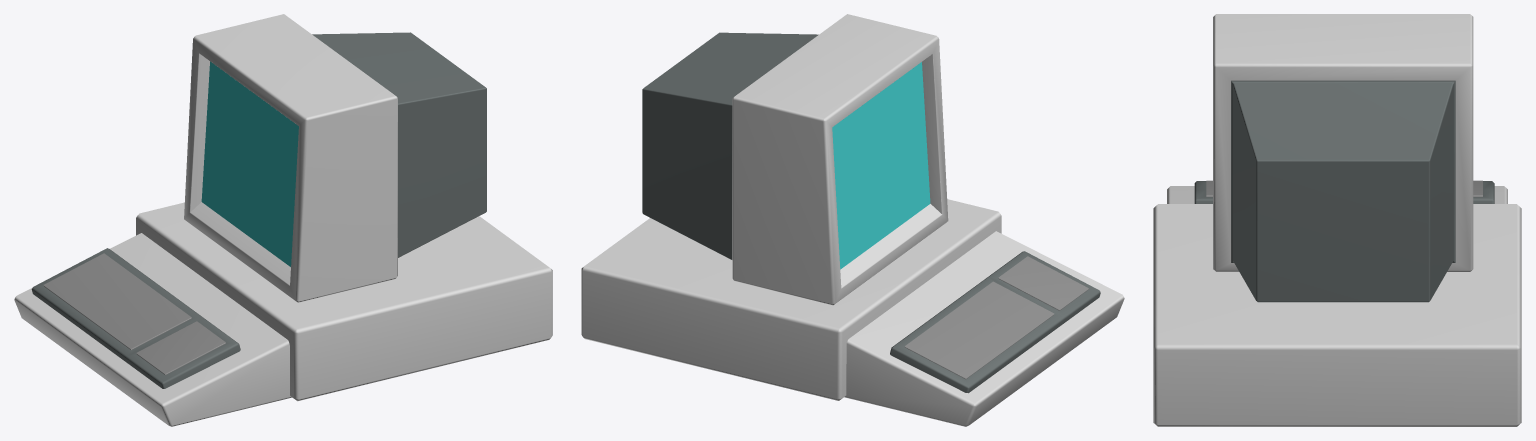
The model's file is Old_PC1.fbx.
3 views of the same model, side by side, from view 1: azimuth 30°, elevation 25°; view 2: azimuth 150°, elevation 25°; view 3: azimuth 270°, elevation 25° (orthographic). The views are drawn at different scales.
Visible parts, largest first — view 1: Old_PC1; view 2: Old_PC1; view 3: Old_PC1.
Boxes of the visible parts, left/top/right/bottom form: Old_PC1: left=14, top=14, right=552, bottom=426; Old_PC1: left=581, top=14, right=1124, bottom=426; Old_PC1: left=1153, top=14, right=1521, bottom=426.
Size of the model in its own units: 1.74 by 1.11 by 1.26.
